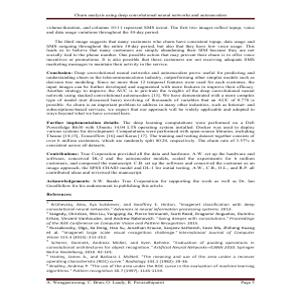text: (44, 23, 261, 274)
